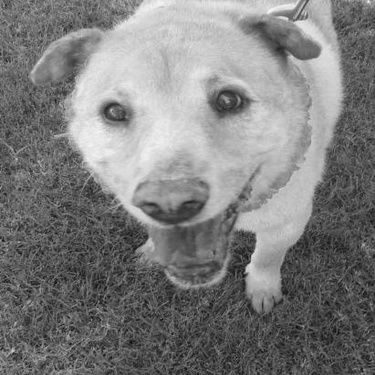dog: (18, 4, 341, 325)
